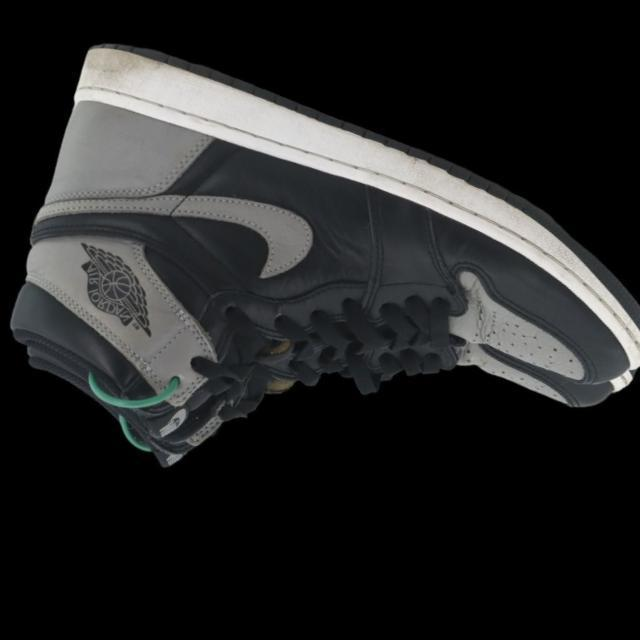nike original jordan 1: (0, 15, 640, 604), (0, 142, 640, 623)
